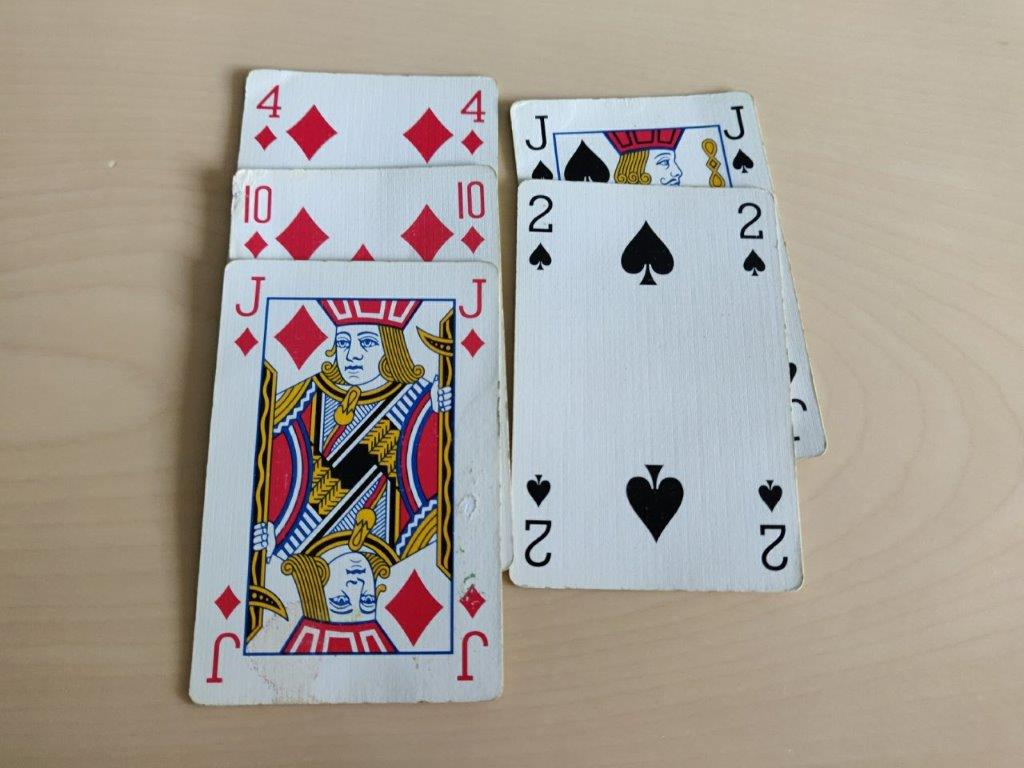10D: (240, 177, 274, 263), (456, 171, 490, 257)
2S: (523, 193, 562, 280), (731, 197, 770, 284)
4D: (251, 76, 285, 156), (458, 82, 492, 162)
JD: (231, 268, 266, 367), (457, 270, 491, 369)
JS: (721, 103, 758, 177), (522, 111, 559, 181)
